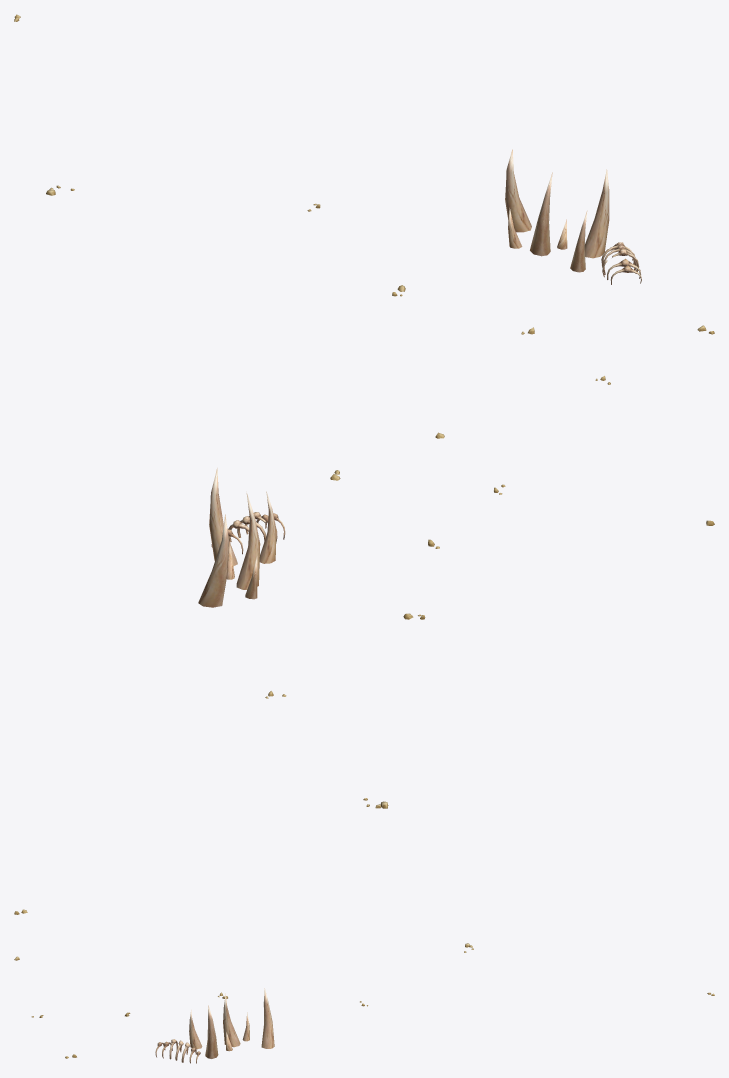
The model's file is area_08_21.fbx.
The picture shows the model from 3 angles, top to bottom: view 1: azimuth 30°, elevation 25°; view 2: azimuth 150°, elevation 25°; view 3: azimuth 270°, elevation 25°; orthographic projection. The views are drawn at different scales.
Parts seen in each view (by area): view 1: area_08_21; view 2: area_08_21; view 3: area_08_21.
Part boxes in pixels (x1=…): area_08_21: x1=14, y1=14, x2=714, y2=438; area_08_21: x1=14, y1=468, x2=714, y2=914; area_08_21: x1=14, y1=943, x2=714, y2=1063.
Size of the model in its own units: 23.48 by 5.25 by 58.56.
